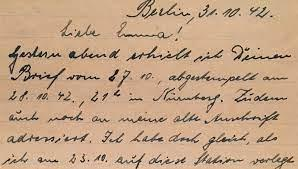text: (6, 42, 292, 74), (8, 63, 290, 91), (7, 86, 288, 114), (7, 129, 281, 152), (7, 108, 281, 129), (0, 150, 296, 169), (125, 0, 274, 25), (58, 18, 183, 42)
